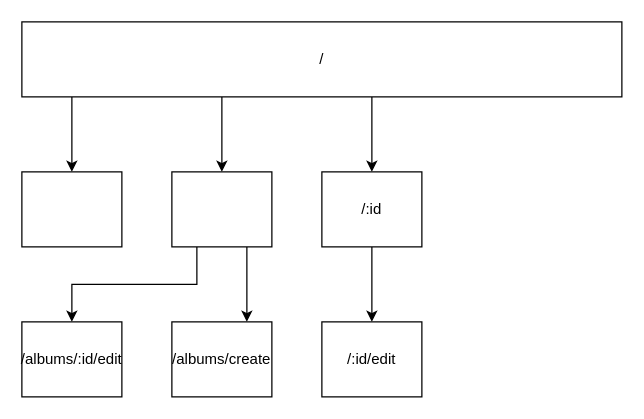
Image size: 644x419. Some labels were removed from this diagram. Each missing label, with the centre of its shape:
"/albums" belongs at [221,209].
"/upload" belongs at [71,209].
